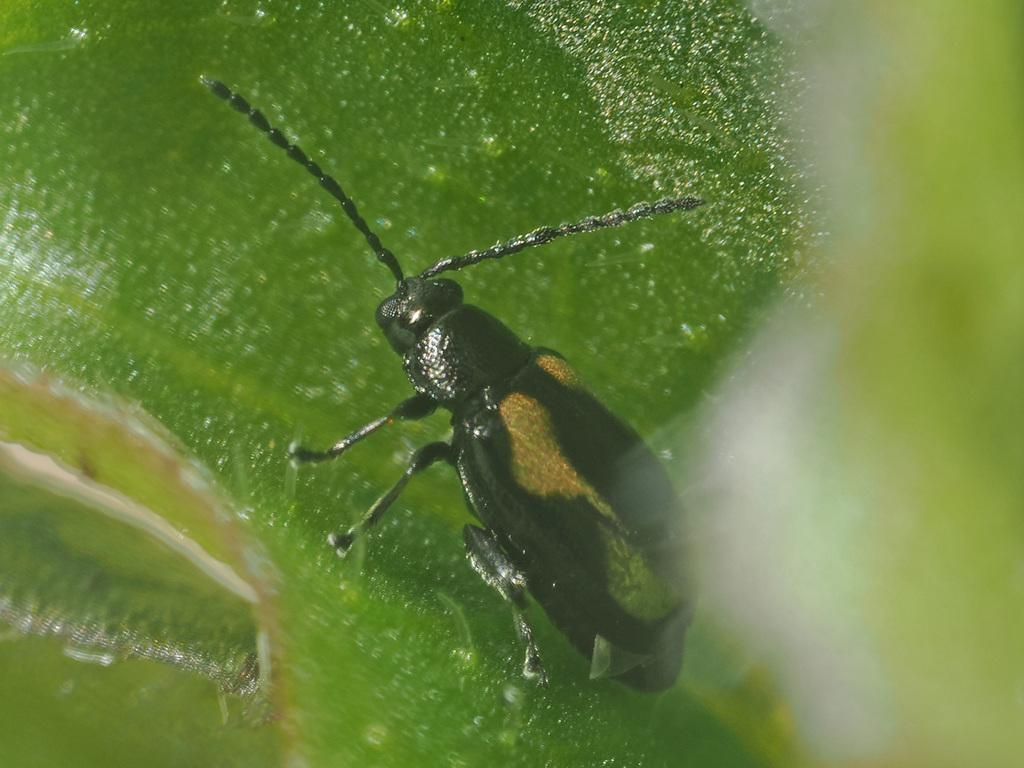flea_beetle: (135, 0, 811, 739)
